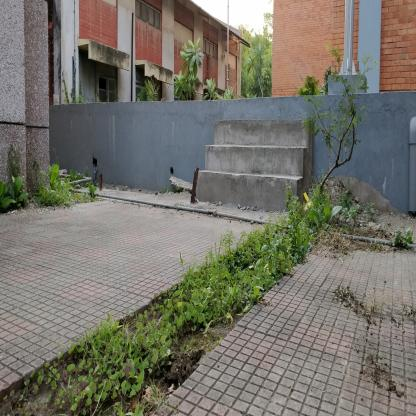stairs: (216, 96, 287, 218)
